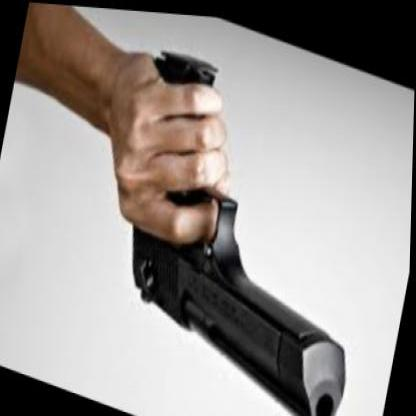pistol: (89, 37, 397, 413)
